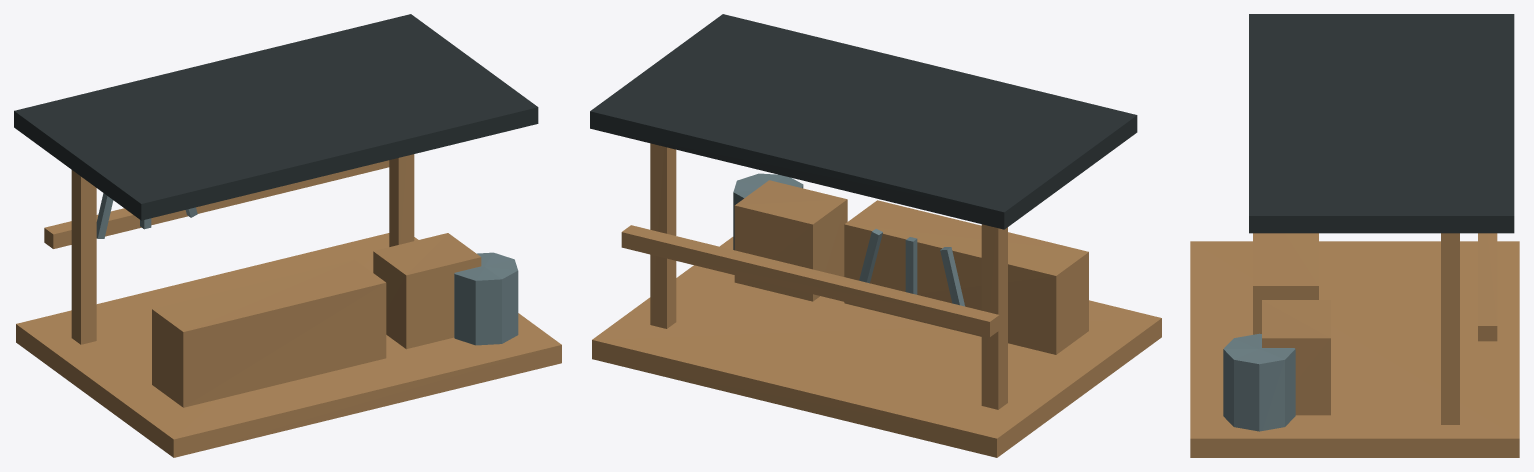
The model's file is Tool-Shed.glb.
3 renders of one model, left to right at view 1: azimuth 30°, elevation 25°; view 2: azimuth 150°, elevation 25°; view 3: azimuth 270°, elevation 25°, orthographic. The views are drawn at different scales.
Parts seen in each view (by area): view 1: tool-shed-static-shed-roof-charcoal, tool-shed-static-shed-base, tool-shed-static-shed-timber, tool-shed-static-shed-chest-ochre, tool-shed-static-shed-tool-metal; view 2: tool-shed-static-shed-roof-charcoal, tool-shed-static-shed-base, tool-shed-static-shed-timber, tool-shed-static-shed-chest-ochre, tool-shed-static-shed-tool-metal; view 3: tool-shed-static-shed-roof-charcoal, tool-shed-static-shed-base, tool-shed-static-shed-timber, tool-shed-static-shed-tool-metal, tool-shed-static-shed-chest-ochre.
Boxes of the visible parts, box(x1,y1,x2,y2) form: tool-shed-static-shed-roof-charcoal: box(14, 14, 538, 220); tool-shed-static-shed-base: box(16, 233, 561, 457); tool-shed-static-shed-timber: box(44, 154, 414, 407); tool-shed-static-shed-chest-ochre: box(373, 233, 481, 349); tool-shed-static-shed-tool-metal: box(96, 193, 518, 345); tool-shed-static-shed-roof-charcoal: box(590, 14, 1137, 229); tool-shed-static-shed-base: box(592, 237, 1161, 457); tool-shed-static-shed-timber: box(621, 143, 1088, 409); tool-shed-static-shed-chest-ochre: box(734, 180, 847, 301); tool-shed-static-shed-tool-metal: box(733, 173, 964, 306); tool-shed-static-shed-roof-charcoal: box(1249, 14, 1514, 233); tool-shed-static-shed-base: box(1190, 241, 1519, 457); tool-shed-static-shed-timber: box(1253, 233, 1497, 424); tool-shed-static-shed-tool-metal: box(1223, 333, 1295, 431); tool-shed-static-shed-chest-ochre: box(1262, 300, 1330, 415).
Bounding box in the file's own units: 4.5 × 2.54 × 3.1.
